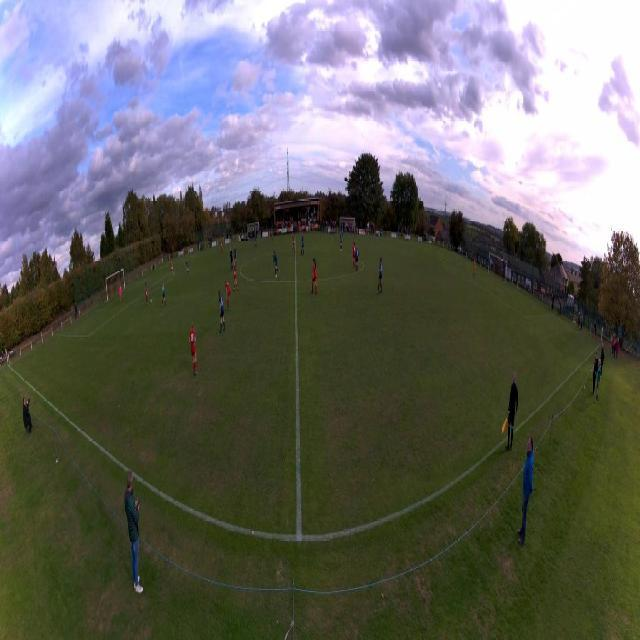ball: (150, 299, 152, 303)
player: (189, 321, 198, 377), (218, 290, 225, 334), (311, 258, 317, 295), (377, 257, 383, 294), (273, 250, 280, 279), (225, 279, 231, 311), (233, 261, 239, 292), (162, 281, 167, 308), (355, 244, 359, 272), (352, 241, 356, 267), (229, 247, 233, 273), (300, 232, 304, 256), (292, 233, 296, 254), (233, 246, 237, 265), (145, 282, 148, 306), (186, 258, 190, 276), (119, 284, 123, 302), (269, 226, 273, 242), (473, 259, 476, 279), (171, 261, 174, 278), (220, 239, 223, 253), (340, 232, 342, 252), (255, 237, 258, 248)
